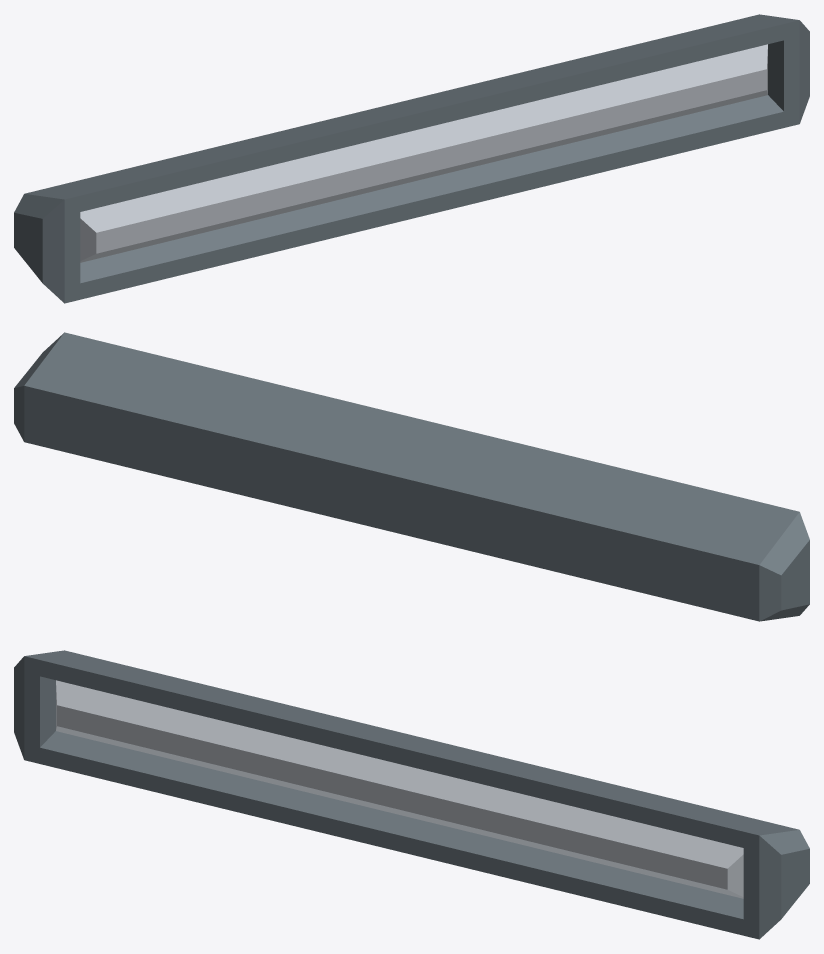
The model's file is SM_Prop_Light_Fluorescent_01.fbx.
3 views of the same model, one above another, from view 1: azimuth 30°, elevation 25°; view 2: azimuth 150°, elevation 25°; view 3: azimuth 330°, elevation 25° (orthographic).
Visible parts, largest first — view 1: SM_Prop_Light_Fluorescent_01; view 2: SM_Prop_Light_Fluorescent_01; view 3: SM_Prop_Light_Fluorescent_01.
Part boxes in pixels (x1,y1,x2,y2): SM_Prop_Light_Fluorescent_01: (14, 14, 809, 303); SM_Prop_Light_Fluorescent_01: (14, 332, 809, 621); SM_Prop_Light_Fluorescent_01: (14, 650, 809, 939).
Bounding box in the file's own units: 168 × 21.73 × 15.28.
